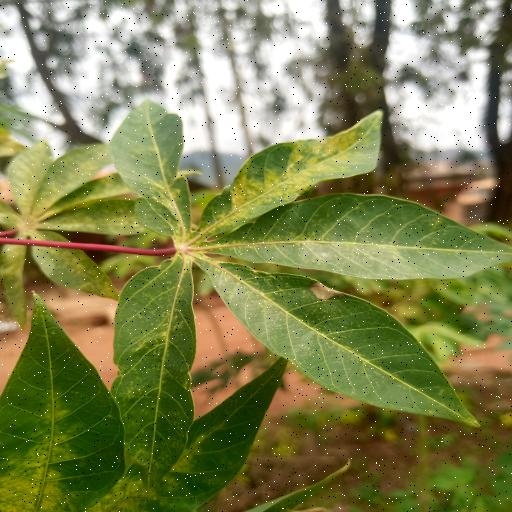Cassava_Mosaic: (98, 99, 512, 488)
